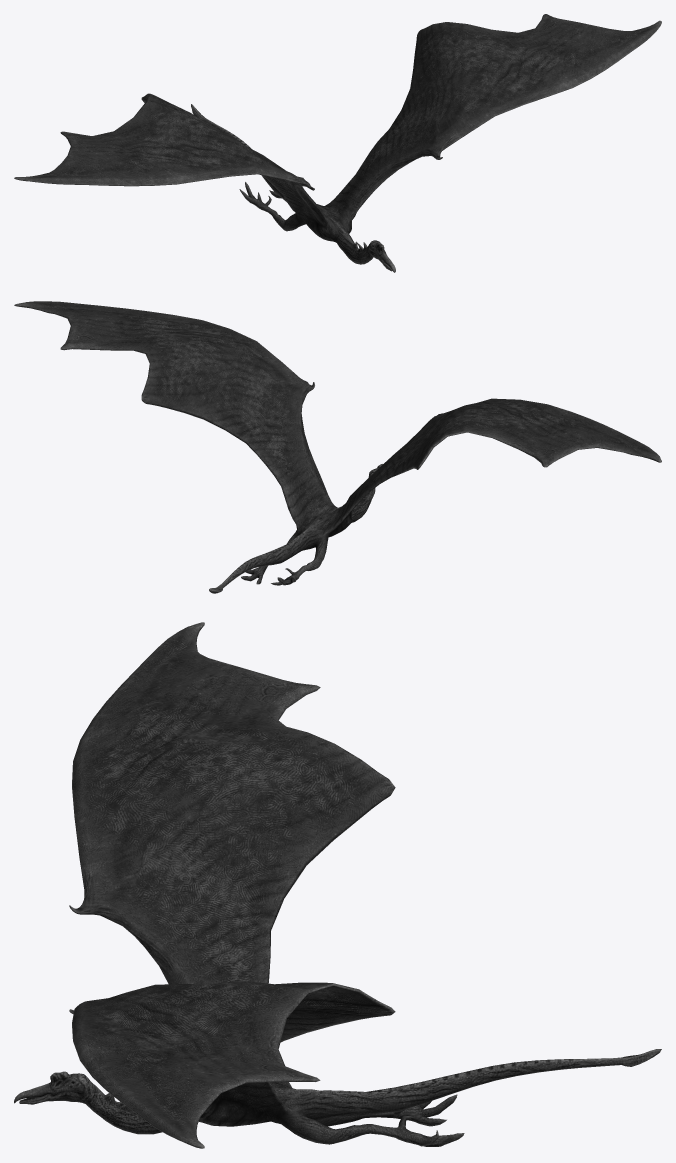
File: Fellbeast_FlyAnim_14.obj
The picture shows the model from 3 angles, top to bottom: view 1: azimuth 30°, elevation 25°; view 2: azimuth 150°, elevation 25°; view 3: azimuth 270°, elevation 25°; orthographic projection. The views are drawn at different scales.
Visible parts, largest first — view 1: Fellbeast; view 2: Fellbeast; view 3: Fellbeast.
Boxes of the visible parts, x1,y1,x2,y2 form: Fellbeast: (14,14,661,272); Fellbeast: (14,301,661,593); Fellbeast: (14,622,661,1148).
Size of the model in its own units: 8.34 by 2.07 by 4.35.
